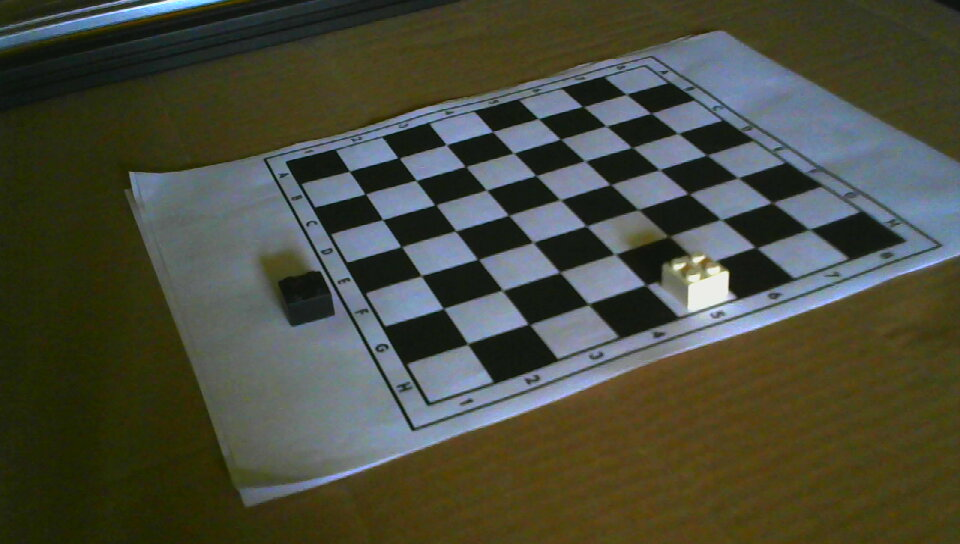bp: (277, 271, 335, 325)
wp: (663, 251, 731, 309)
